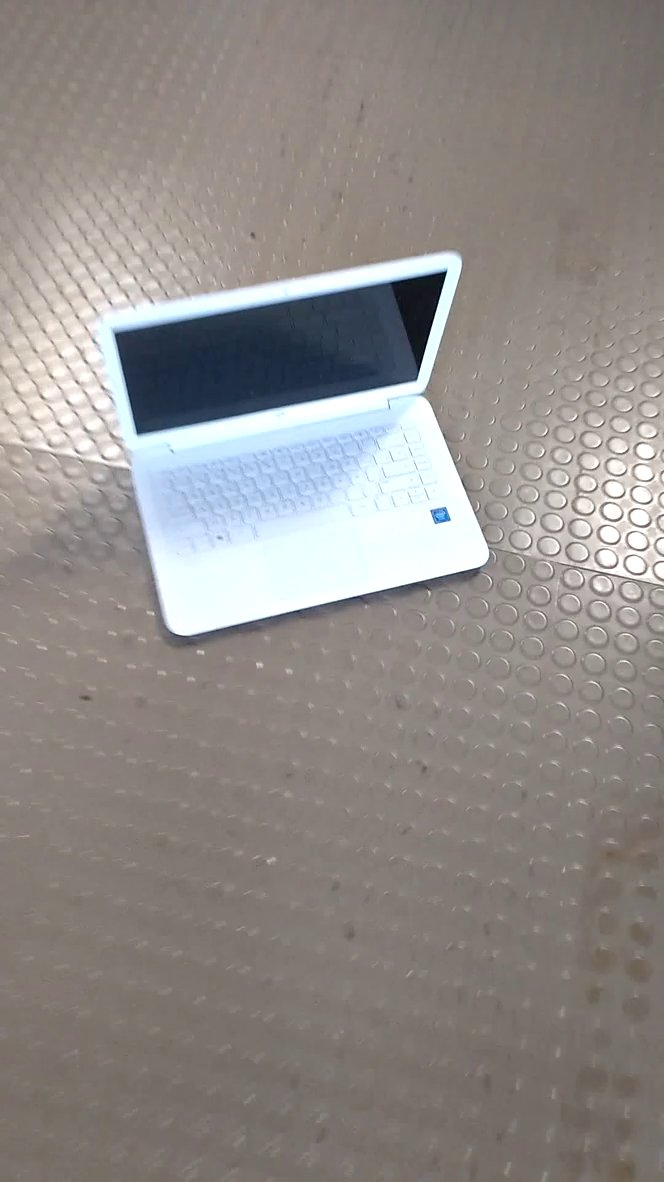laptop: (94, 244, 501, 646)
